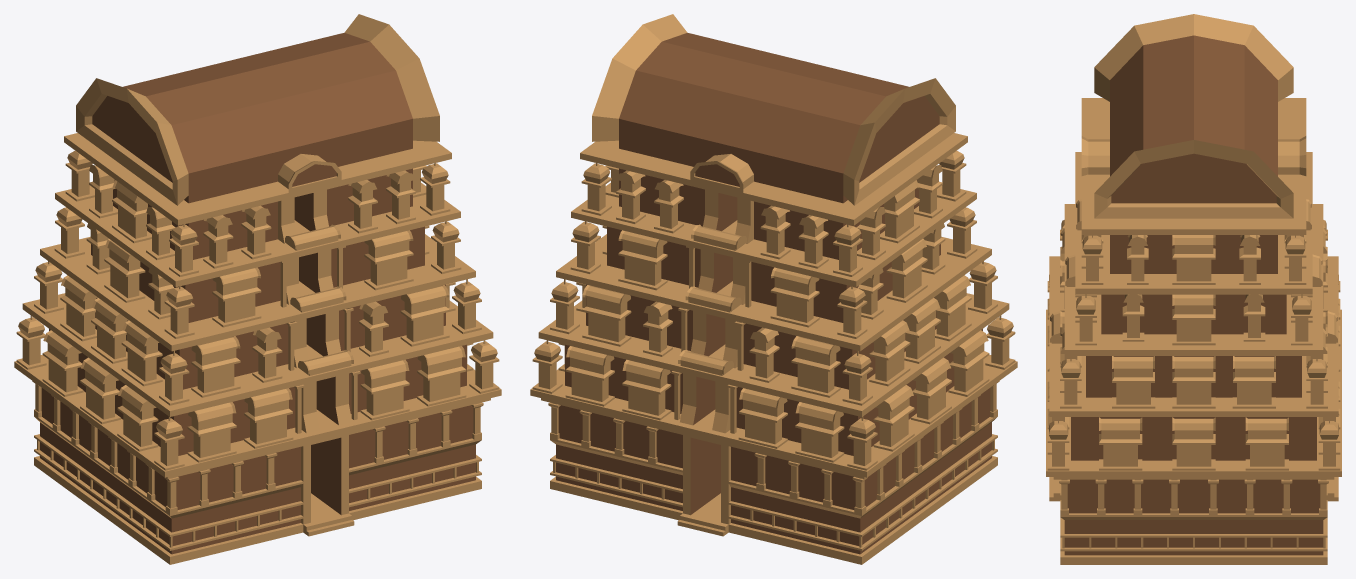
The model's file is india_temple-gopuram.fbx.
The picture shows the model from 3 angles, left to right: view 1: azimuth 30°, elevation 25°; view 2: azimuth 150°, elevation 25°; view 3: azimuth 270°, elevation 25°; orthographic projection.
Parts seen in each view (by area): view 1: india_temple_gopuram; view 2: india_temple_gopuram; view 3: india_temple_gopuram.
Part boxes in pixels (left/top/right/bottom): india_temple_gopuram: left=14, top=14, right=501, bottom=564; india_temple_gopuram: left=530, top=14, right=1017, bottom=564; india_temple_gopuram: left=1046, top=14, right=1341, bottom=564.
Size of the model in its own units: 168 by 200 by 130.
